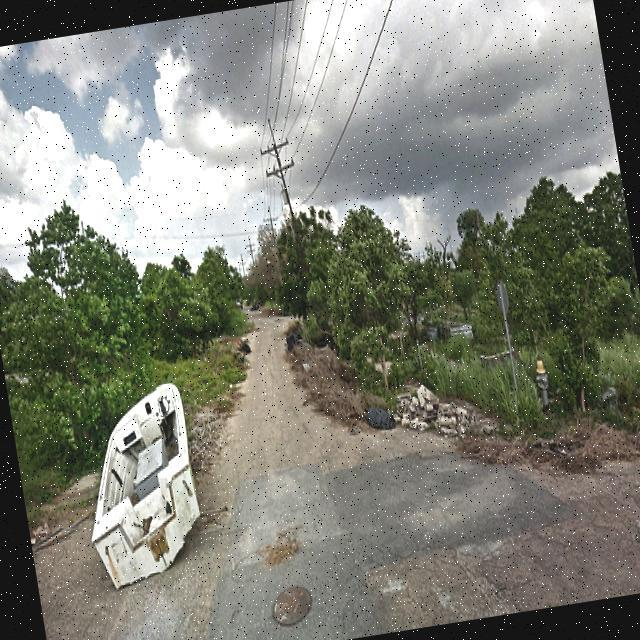fire_hydrant: (530, 358, 553, 413)
